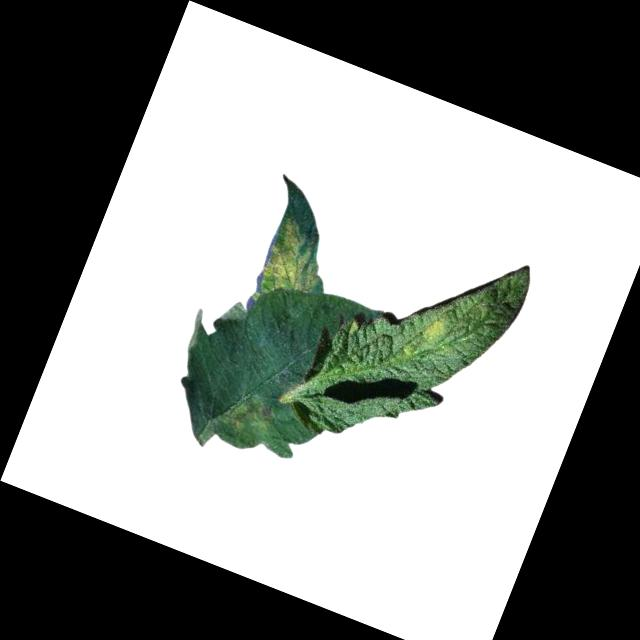Leaf_Mold: (249, 210, 338, 315), (202, 378, 296, 462), (417, 310, 455, 348)
